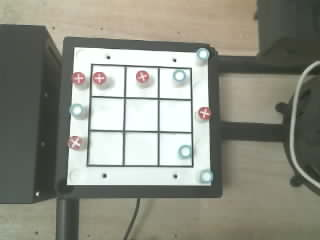blue circle: (178, 145, 192, 159), (69, 104, 84, 117), (200, 170, 214, 183), (173, 70, 186, 82), (197, 48, 209, 60)
board: (67, 48, 213, 185)
cells: (89, 132, 122, 164), (125, 133, 157, 165), (160, 133, 192, 165), (91, 98, 123, 130), (125, 99, 157, 130), (160, 100, 191, 131), (92, 66, 124, 96), (159, 68, 190, 98), (135, 70, 150, 86)
grid: (86, 64, 193, 167)
red cross: (67, 136, 82, 149), (198, 107, 212, 120), (136, 70, 149, 83), (92, 72, 106, 84), (72, 72, 84, 84)
